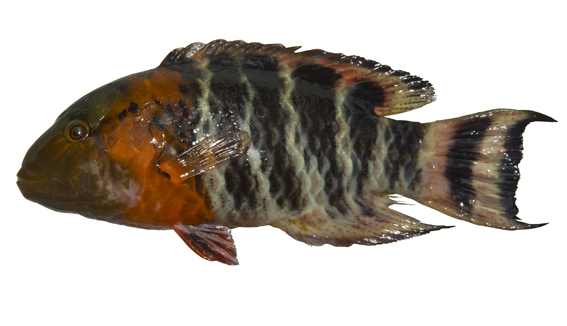fish: (16, 40, 559, 266)
